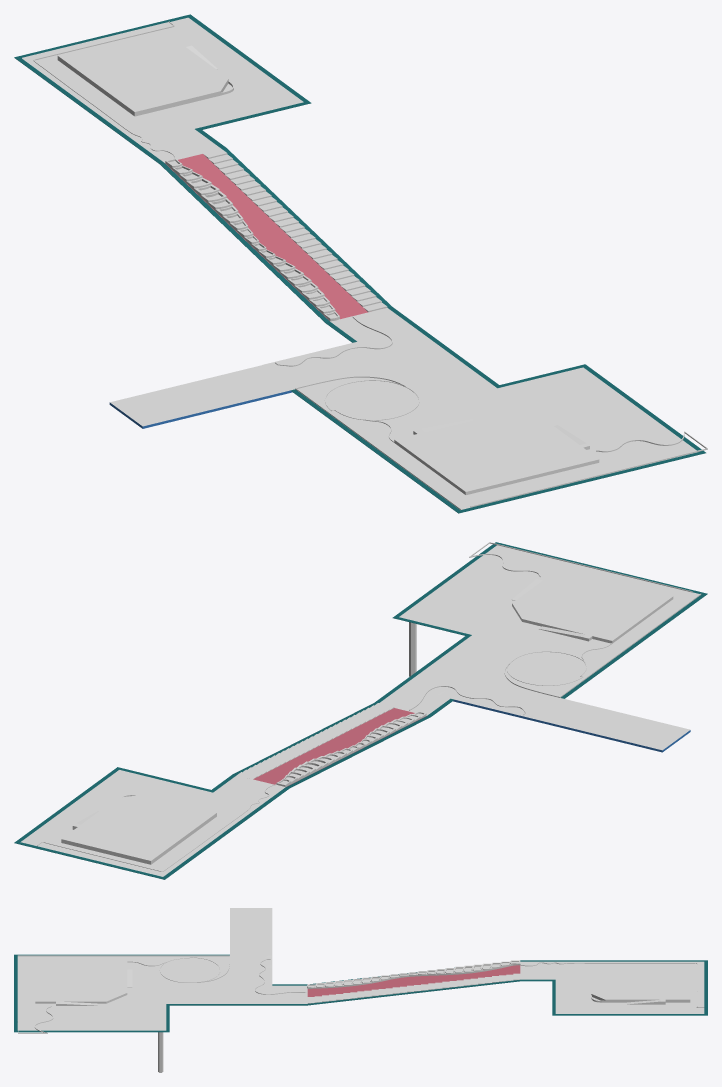
Rendered from Plataforma.fbx.
3 renders of one model, top to bottom at view 1: azimuth 30°, elevation 25°; view 2: azimuth 150°, elevation 25°; view 3: azimuth 270°, elevation 25°, orthographic. The views are drawn at different scales.
Visible parts, largest first — view 1: RampaEntrada.001, Plane.005, FimRampaEscada.001, Plane.007, Plane.006, PlataformaInferior.013, RampaEscada.001, EscadaRampaPrincipal.004, Cube.004, Plane.008, Plane, Plane.004; view 2: RampaEntrada.001, FimRampaEscada.001, Plane.005, Plane.007, Plane.006, PlataformaInferior.013, RampaEscada.001, EscadaRampaPrincipal.004, Cube.004, Plane.008, Plane, PlataformaInferior (+1 smaller); view 3: RampaEntrada.001, FimRampaEscada.001, Plane.005, Plane.007, Plane.006, PlataformaInferior.013, RampaEscada.001, EscadaRampaPrincipal.004, Cube.004, Plane.008, Plane, Plane.001 (+1 smaller).
Part boxes in pixels (box(x1,y1,x2,y2)): RampaEntrada.001: box(110, 307, 697, 509); Plane.005: box(394, 414, 599, 494); FimRampaEscada.001: box(22, 17, 303, 162); Plane.007: box(298, 377, 696, 509); Plane.006: box(57, 30, 231, 116); PlataformaInferior.013: box(14, 14, 705, 513); RampaEscada.001: box(165, 154, 367, 320); EscadaRampaPrincipal.004: box(203, 149, 387, 312); Cube.004: box(165, 158, 339, 321); Plane.008: box(22, 22, 174, 162); Plane: box(262, 319, 378, 367); Plane.004: box(470, 431, 707, 507); RampaEntrada.001: box(379, 545, 698, 750); FimRampaEscada.001: box(20, 770, 284, 876); Plane.005: box(512, 568, 673, 643); Plane.007: box(479, 545, 699, 696); Plane.006: box(61, 795, 216, 864); PlataformaInferior.013: box(14, 542, 707, 879); RampaEscada.001: box(253, 708, 426, 786); EscadaRampaPrincipal.004: box(237, 703, 394, 779); Cube.004: box(276, 711, 426, 786); Plane.008: box(38, 785, 284, 876); Plane: box(422, 690, 534, 718); PlataformaInferior: box(453, 700, 690, 752); RampaEntrada.001: box(17, 908, 307, 1030); FimRampaEscada.001: box(520, 963, 704, 1013); Plane.005: box(35, 959, 132, 1005); Plane.007: box(18, 956, 229, 1030); Plane.006: box(591, 966, 690, 1004); PlataformaInferior.013: box(14, 954, 707, 1032); RampaEscada.001: box(307, 965, 520, 996); EscadaRampaPrincipal.004: box(307, 973, 520, 1003); Cube.004: box(307, 960, 520, 988); Plane.008: box(520, 961, 704, 1007); Plane: box(257, 955, 307, 990); Plane.001: box(17, 955, 229, 982).
Bounding box in the file's own units: 8800 × 2237 × 19612.
